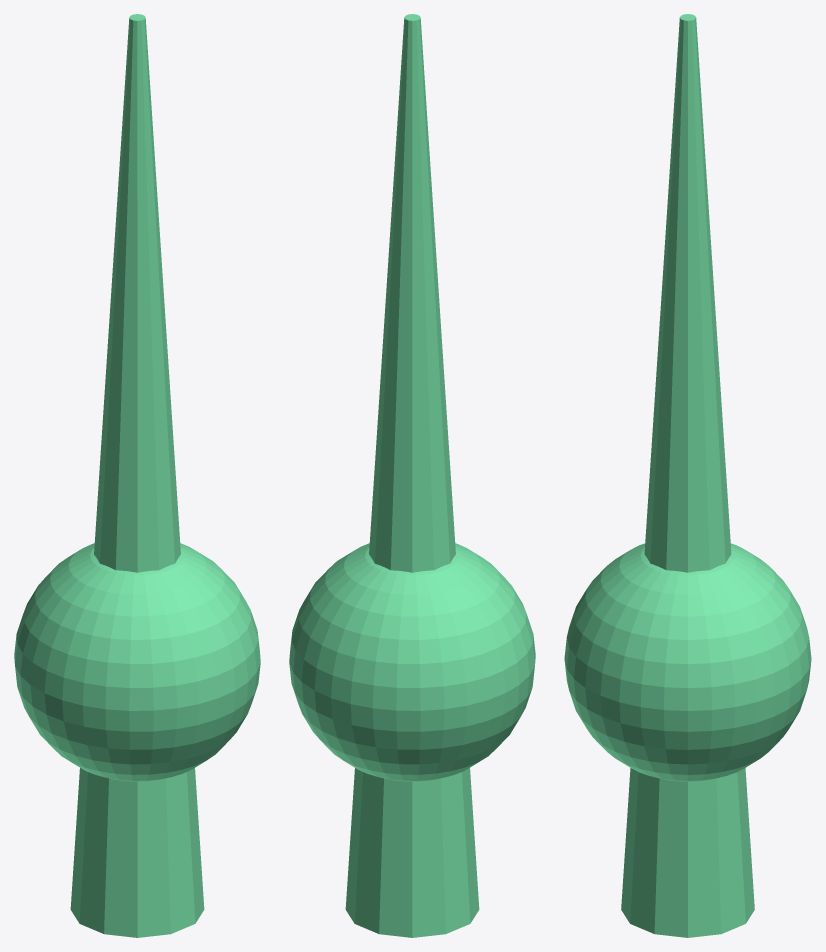
File: Turm_Spitze.fbx
3 renders of one model, left to right at view 1: azimuth 30°, elevation 25°; view 2: azimuth 150°, elevation 25°; view 3: azimuth 270°, elevation 25°, orthographic.
Parts seen in each view (by area): view 1: TurmSpitze; view 2: TurmSpitze; view 3: TurmSpitze.
Part boxes in pixels (bbox=[...]): TurmSpitze: bbox=[14, 14, 260, 937]; TurmSpitze: bbox=[289, 14, 535, 937]; TurmSpitze: bbox=[564, 14, 811, 937].
Bounding box in the file's own units: 110 × 438 × 110.
